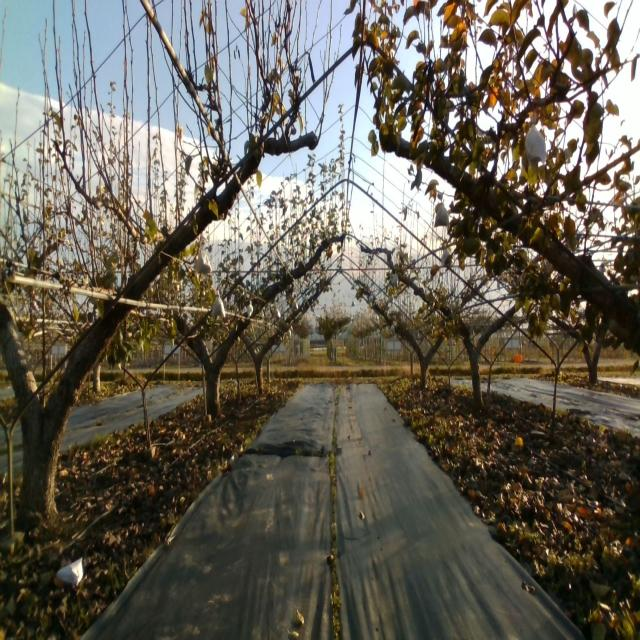pearbags: (524, 111, 546, 168), (434, 199, 450, 228), (212, 288, 226, 319), (196, 249, 212, 276), (441, 249, 452, 267)
